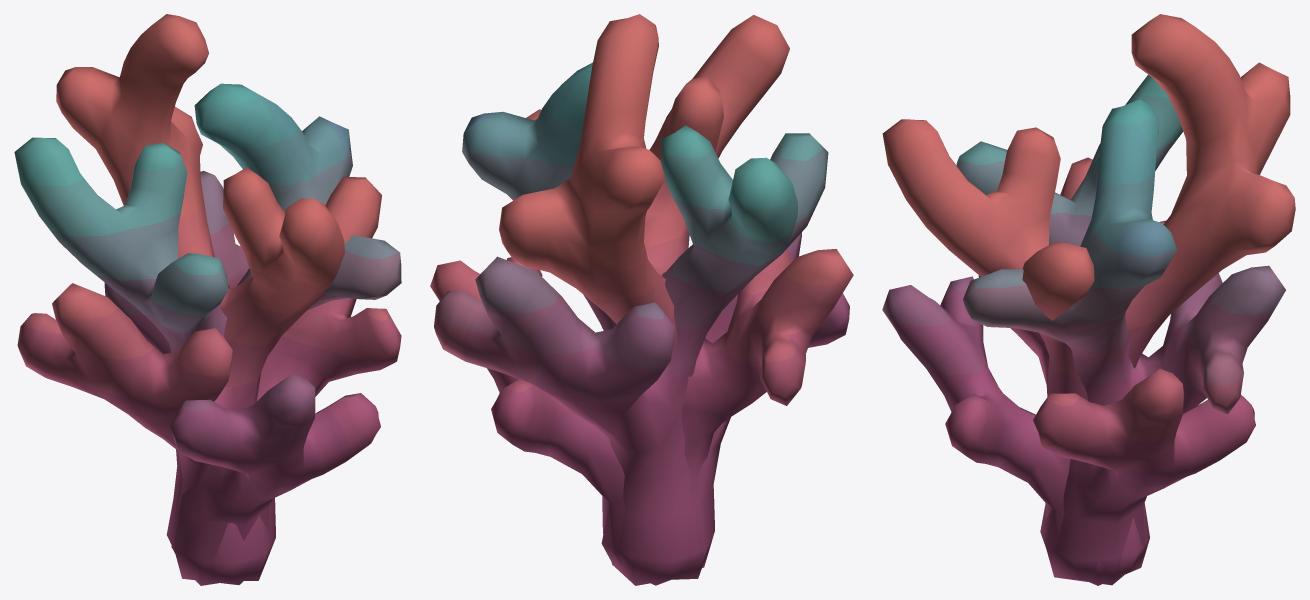
File: model_coral_05.fbx
3 renders of one model, left to right at view 1: azimuth 30°, elevation 25°; view 2: azimuth 150°, elevation 25°; view 3: azimuth 270°, elevation 25°, orthographic. The views are drawn at different scales.
Parts seen in each view (by area): view 1: pCube8; view 2: pCube8; view 3: pCube8.
Part boxes in pixels (box(x1,y1,x2,y2)): pCube8: box(14, 14, 401, 585); pCube8: box(430, 14, 853, 585); pCube8: box(882, 14, 1295, 585).
Bounding box in the file's own units: 9.44 × 14.28 × 9.6.
